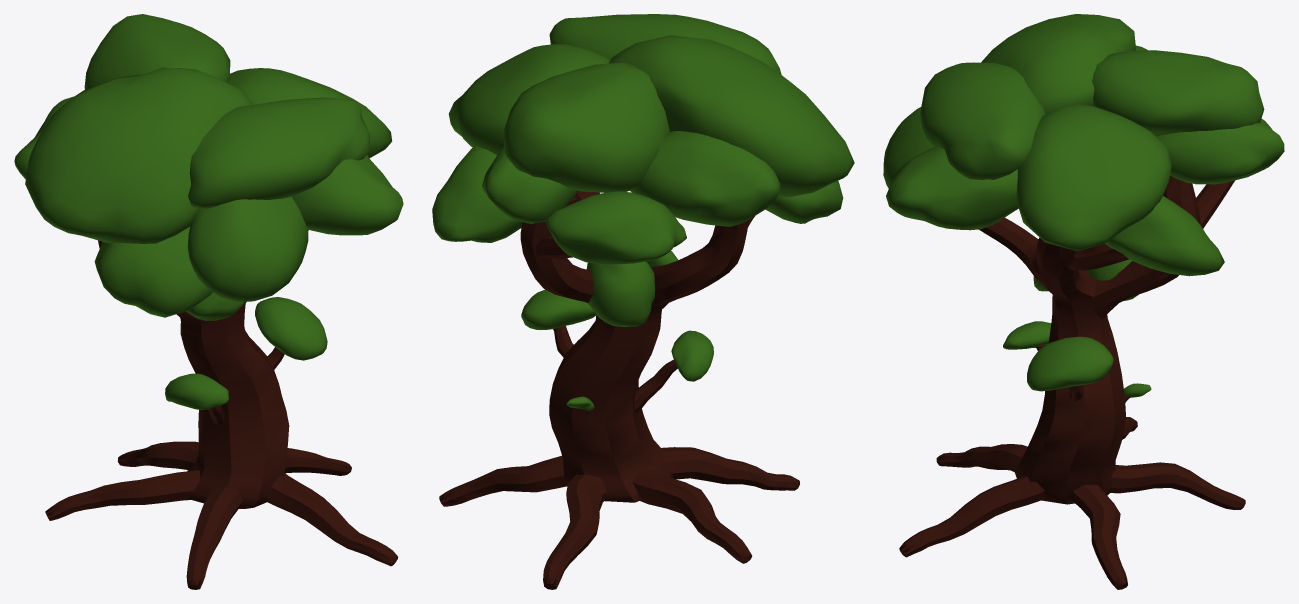
The model's file is obj_redwoodTREE2.fbx.
3 renders of one model, left to right at view 1: azimuth 30°, elevation 25°; view 2: azimuth 150°, elevation 25°; view 3: azimuth 270°, elevation 25°, orthographic. The views are drawn at different scales.
Visible parts, largest first — view 1: obj_redwoodTREE.001; view 2: obj_redwoodTREE.001; view 3: obj_redwoodTREE.001.
Boxes of the visible parts, x1=… form: obj_redwoodTREE.001: x1=14, y1=14, x2=403, y2=589; obj_redwoodTREE.001: x1=432, y1=14, x2=854, y2=589; obj_redwoodTREE.001: x1=883, y1=14, x2=1284, y2=589.
Size of the model in its own units: 9.99 by 12.37 by 9.75.
